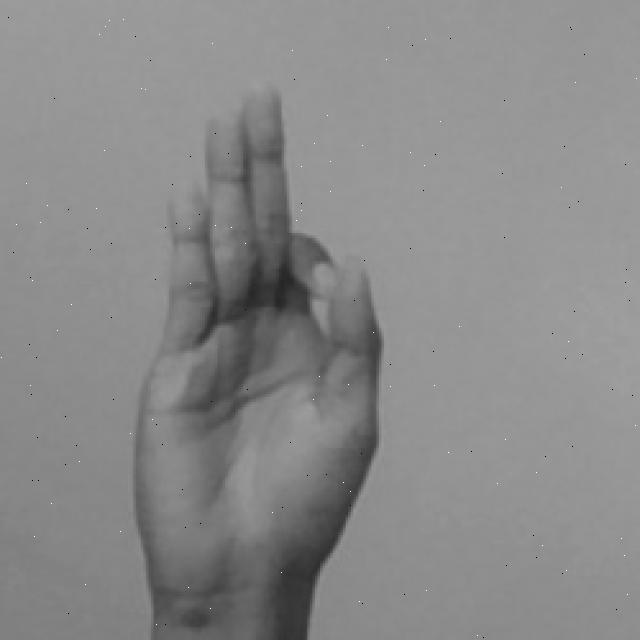F: (129, 69, 391, 640)
